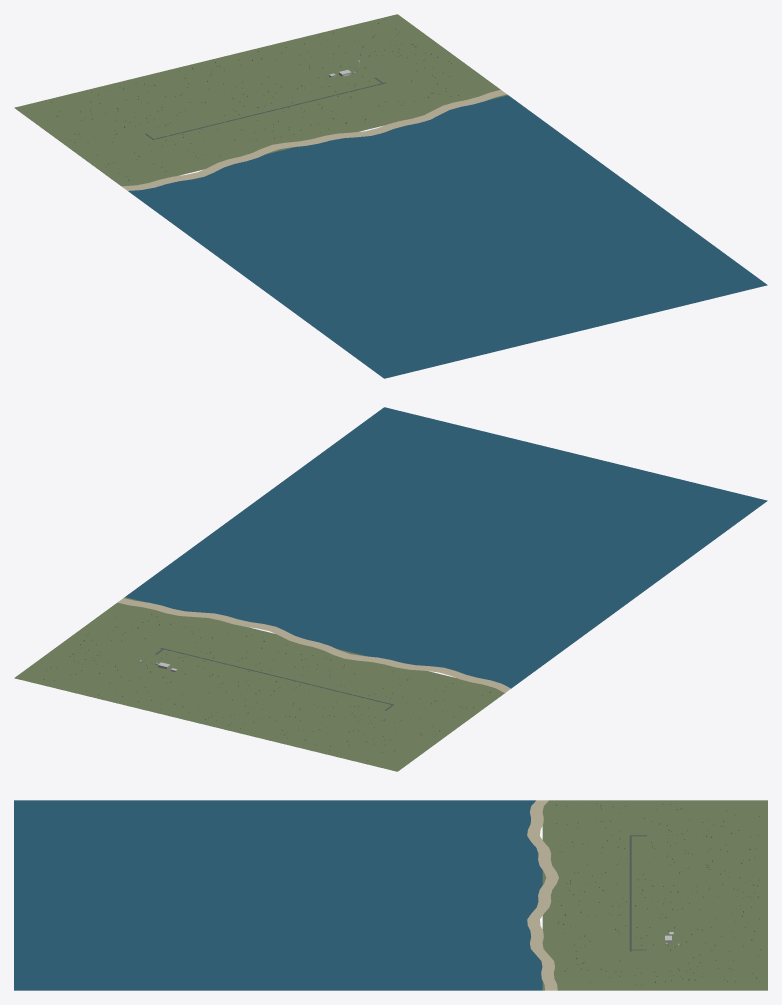
File: Pobrezi_a_teren.glb
3 views of the same model, one above another, from view 1: azimuth 30°, elevation 25°; view 2: azimuth 150°, elevation 25°; view 3: azimuth 270°, elevation 25° (orthographic).
Parts seen in each view (by area): view 1: Oceán | hladina pro dopad, Terén | pobřežní porost, Pobřeží | písčitý břeh; view 2: Oceán | hladina pro dopad, Terén | pobřežní porost, Pobřeží | písčitý břeh; view 3: Oceán | hladina pro dopad, Terén | pobřežní porost, Pobřeží | písčitý břeh, Silnice | příjezd mezi rampou a LZ.
Part boxes in pixels (x1,y1,x2,y2): Oceán | hladina pro dopad: [128, 95, 767, 378]; Terén | pobřežní porost: [14, 14, 507, 186]; Pobřeží | písčitý břeh: [122, 90, 506, 190]; Oceán | hladina pro dopad: [125, 407, 767, 688]; Terén | pobřežní porost: [14, 597, 504, 771]; Pobřeží | písčitý břeh: [117, 598, 510, 692]; Oceán | hladina pro dopad: [14, 800, 542, 990]; Terén | pobřežní porost: [542, 800, 767, 990]; Pobřeží | písčitý břeh: [527, 800, 558, 990]; Silnice | příjezd mezi rampou a LZ: [629, 835, 646, 951].
Size of the model in its own units: 3200 by 43.6 by 5350.
